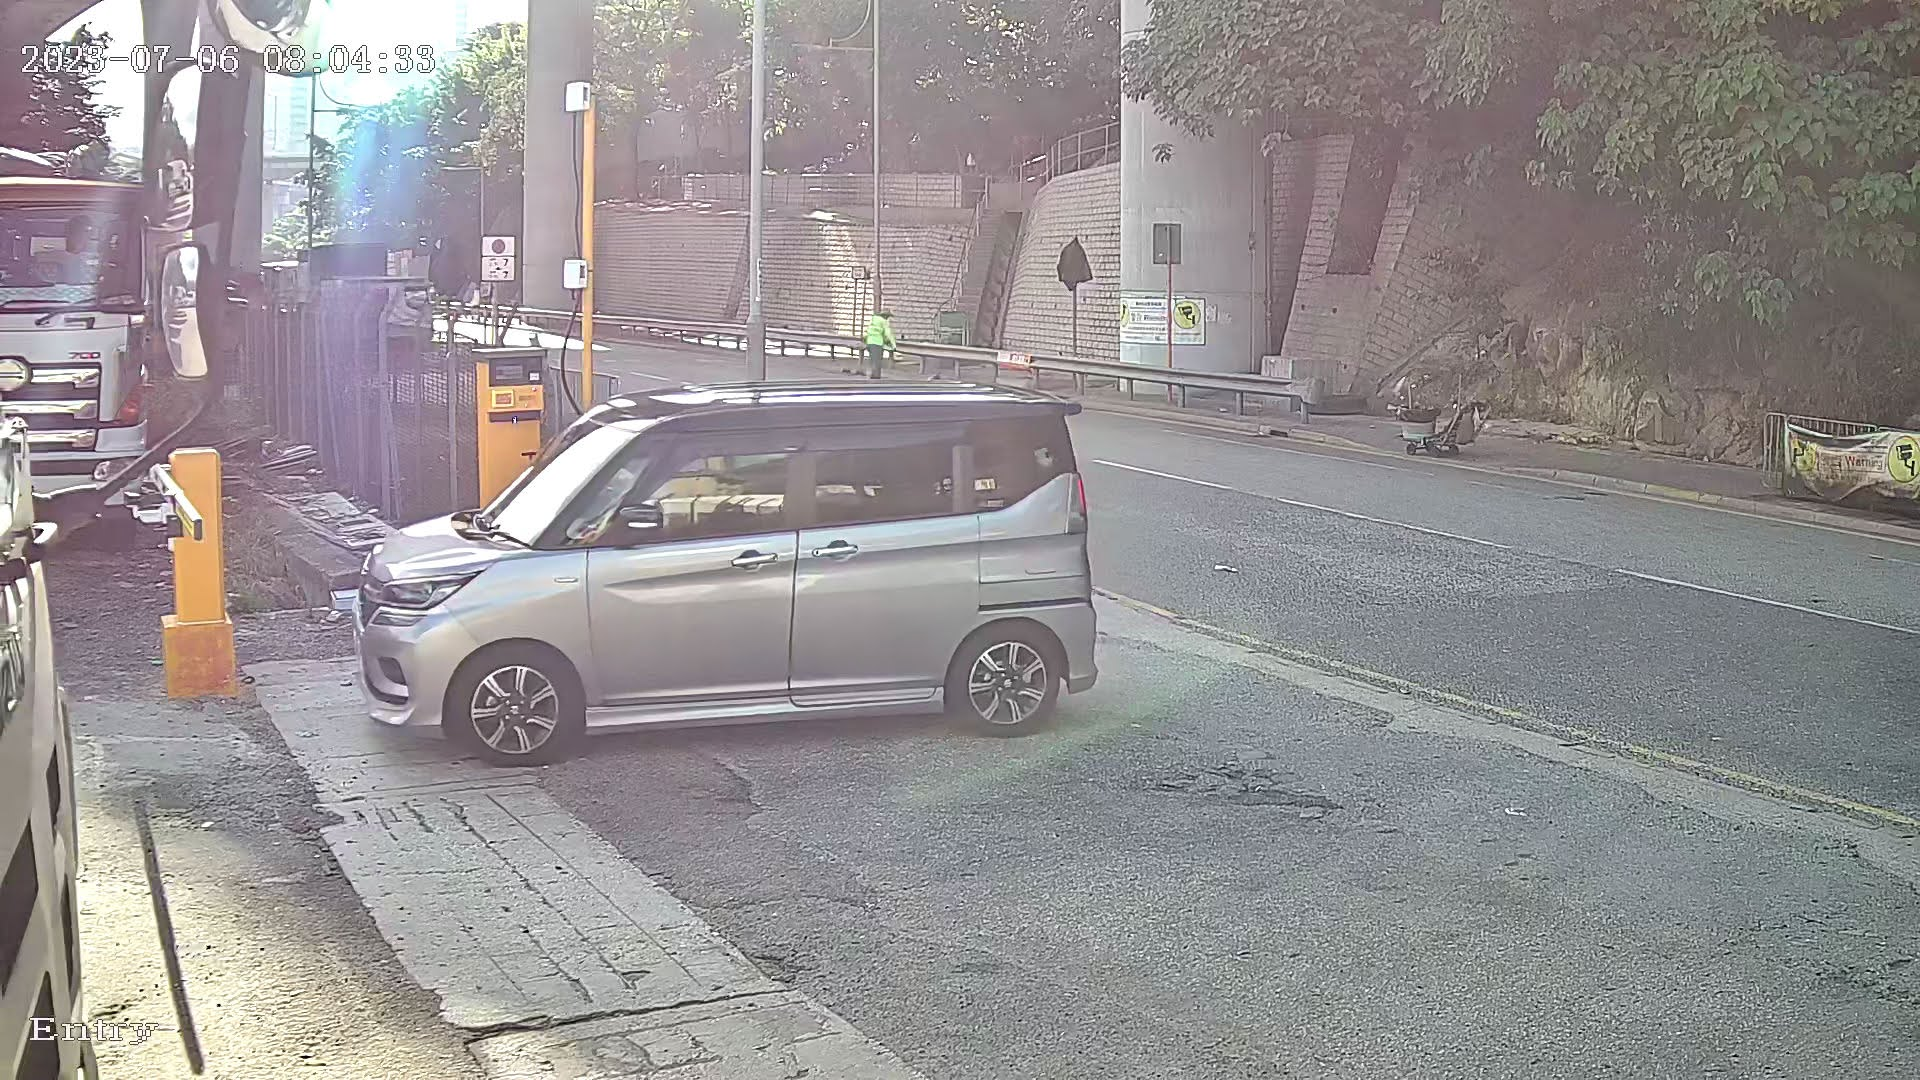privatecar: (277, 338, 1179, 802)
